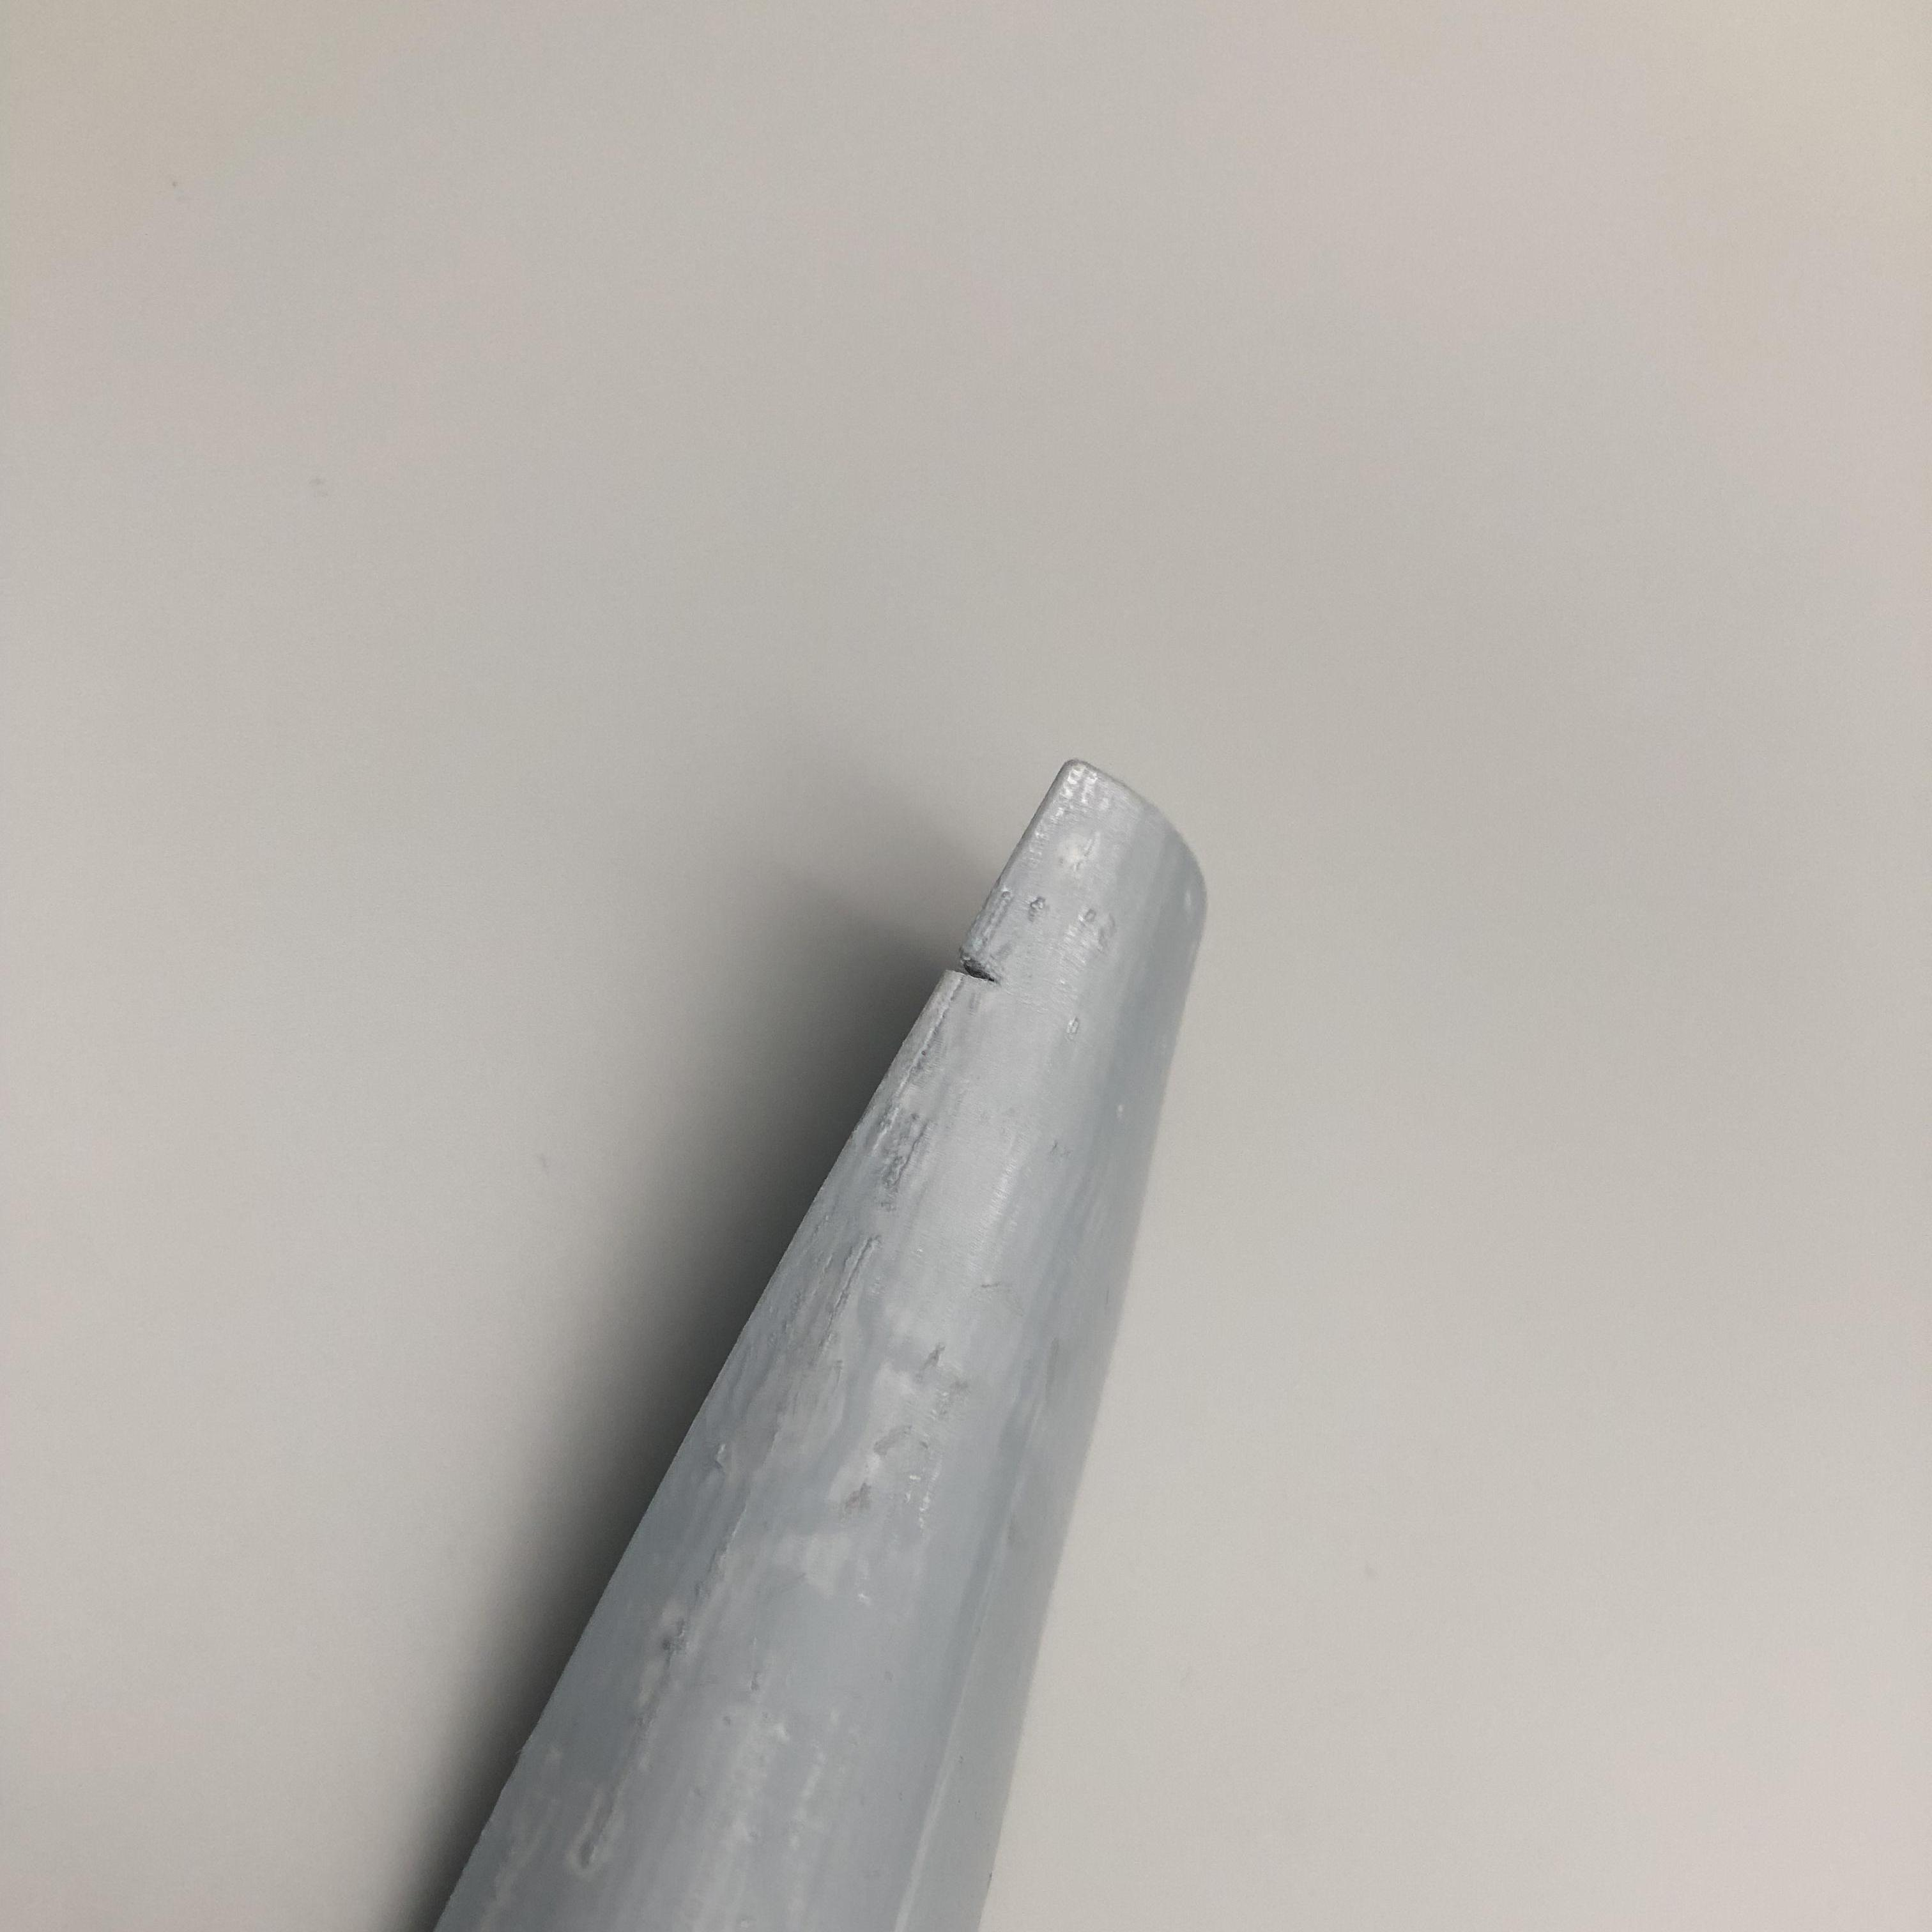groove: (945, 938, 1010, 996)
